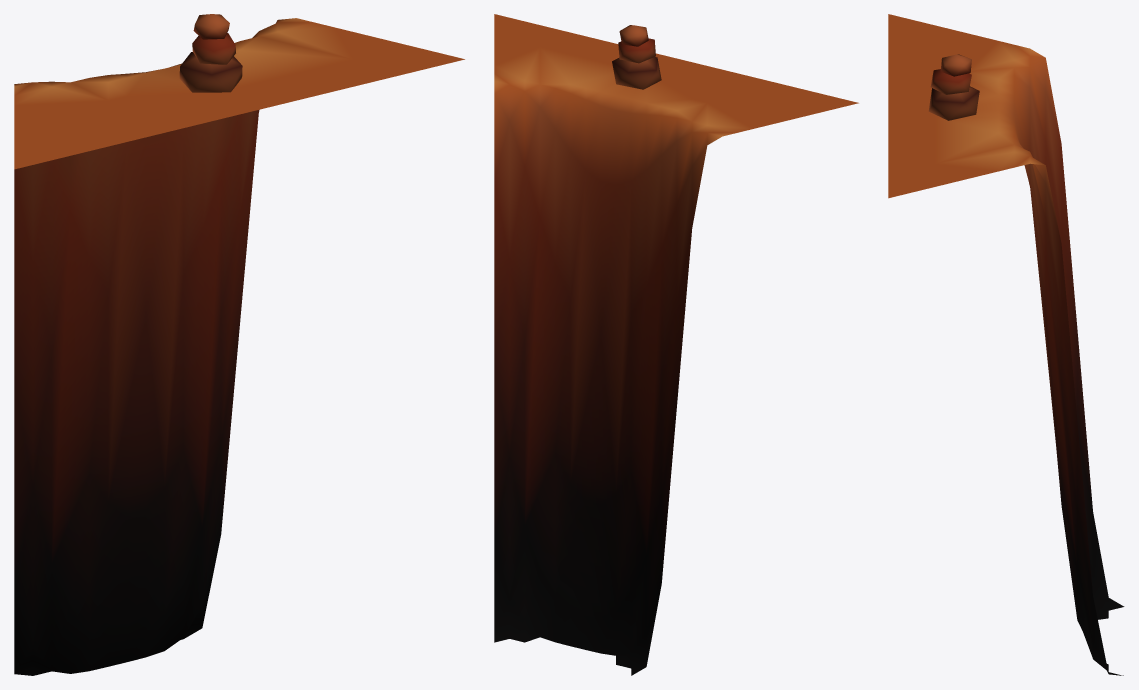
Rendered from MODULE_DESERT_LINE_SHORT.fbx.
The picture shows the model from 3 angles, left to right: view 1: azimuth 30°, elevation 25°; view 2: azimuth 150°, elevation 25°; view 3: azimuth 270°, elevation 25°; orthographic projection. The views are drawn at different scales.
Parts seen in each view (by area): view 1: MODULE_DESERT_LINE_SHORT__export, MODULE_DESERT_LINE_SHORT_DECOR__export; view 2: MODULE_DESERT_LINE_SHORT__export, MODULE_DESERT_LINE_SHORT_DECOR__export; view 3: MODULE_DESERT_LINE_SHORT__export, MODULE_DESERT_LINE_SHORT_DECOR__export.
Boxes of the visible parts, x1,y1,x2,y2 form: MODULE_DESERT_LINE_SHORT__export: (14, 18, 464, 675); MODULE_DESERT_LINE_SHORT_DECOR__export: (179, 14, 242, 92); MODULE_DESERT_LINE_SHORT__export: (494, 14, 858, 675); MODULE_DESERT_LINE_SHORT_DECOR__export: (612, 25, 661, 89); MODULE_DESERT_LINE_SHORT__export: (888, 14, 1124, 675); MODULE_DESERT_LINE_SHORT_DECOR__export: (928, 54, 979, 120).
Size of the model in its own units: 100 by 150 by 54.13.
